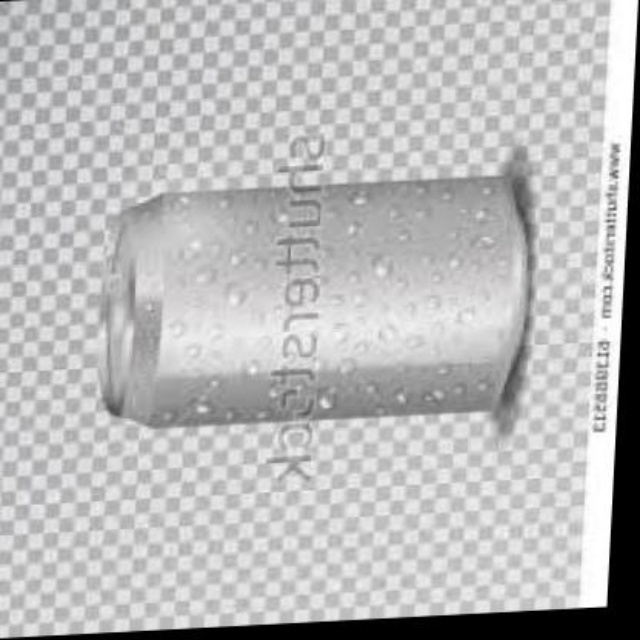trash: (103, 177, 529, 423)
